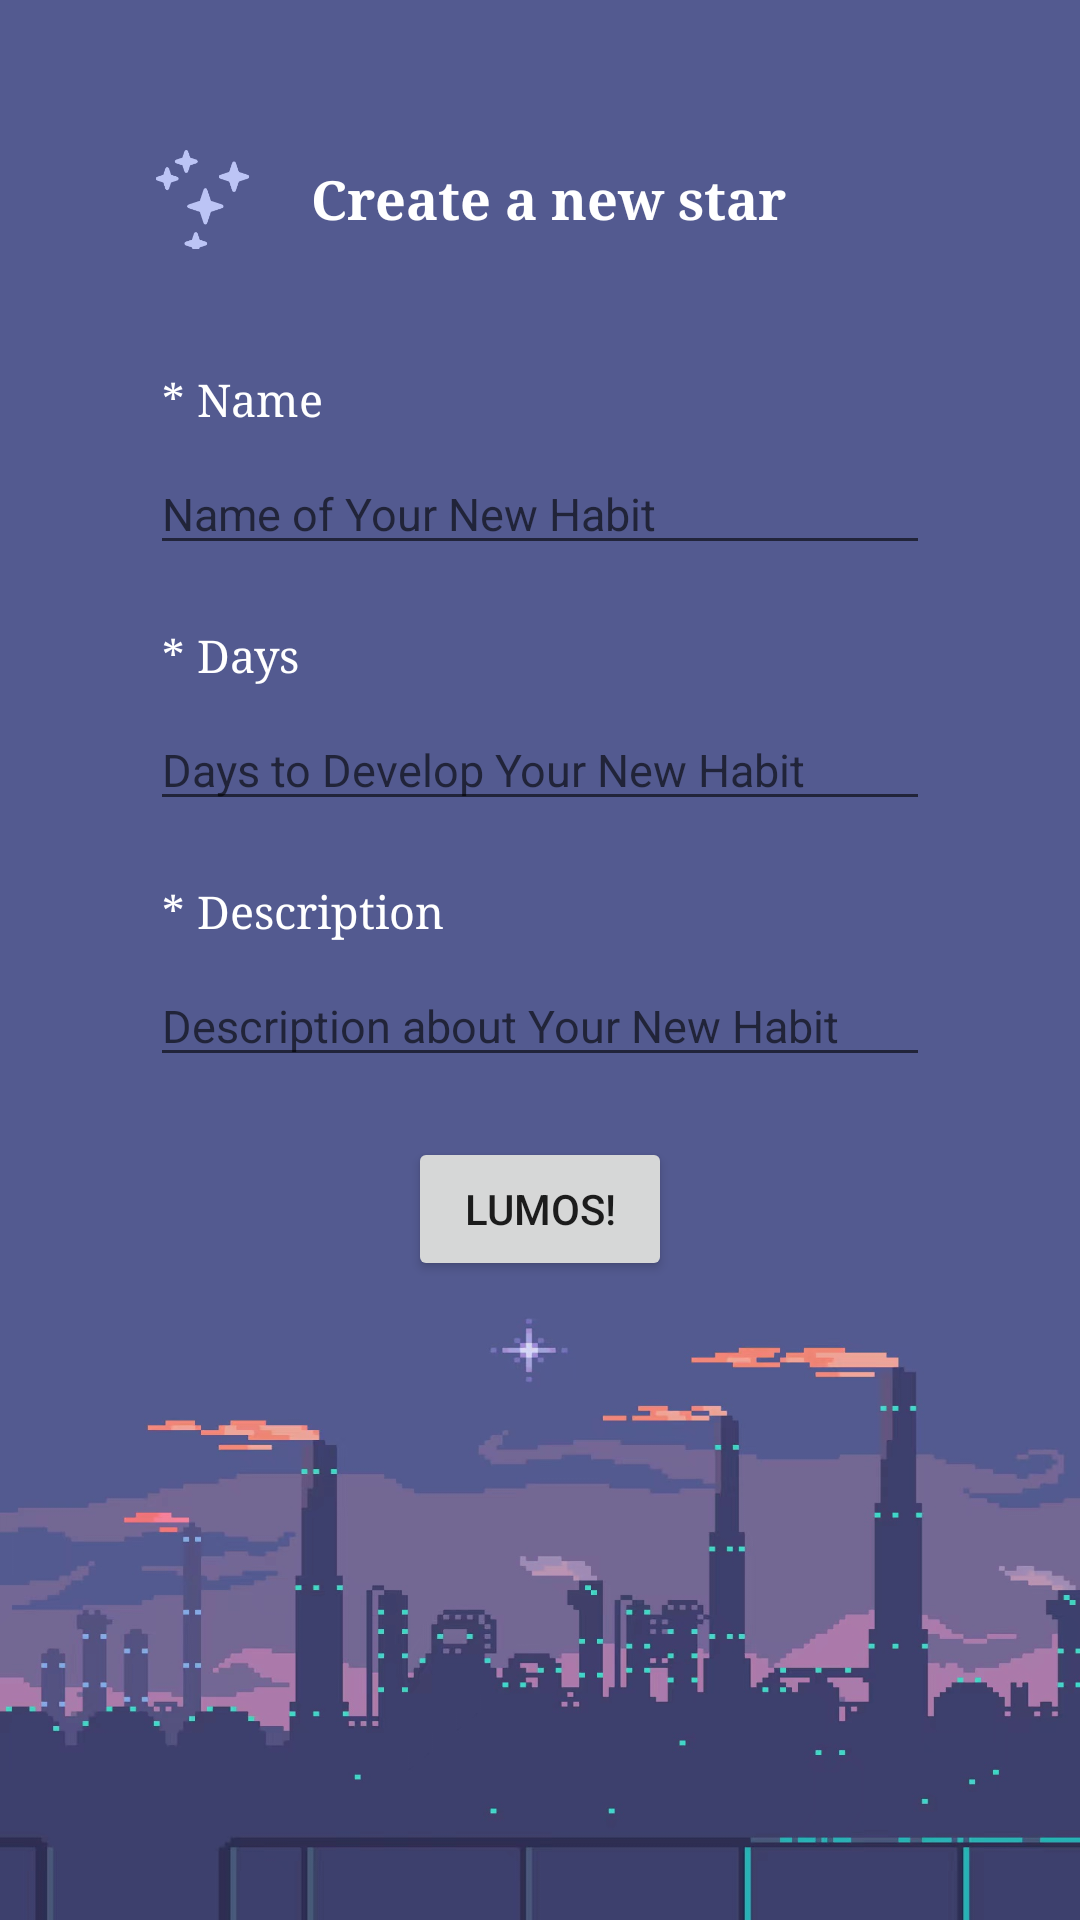

Screen size 1080w x 1920h. Icon name, then its center in pixels as [x,y]:
stars: [202,199]
